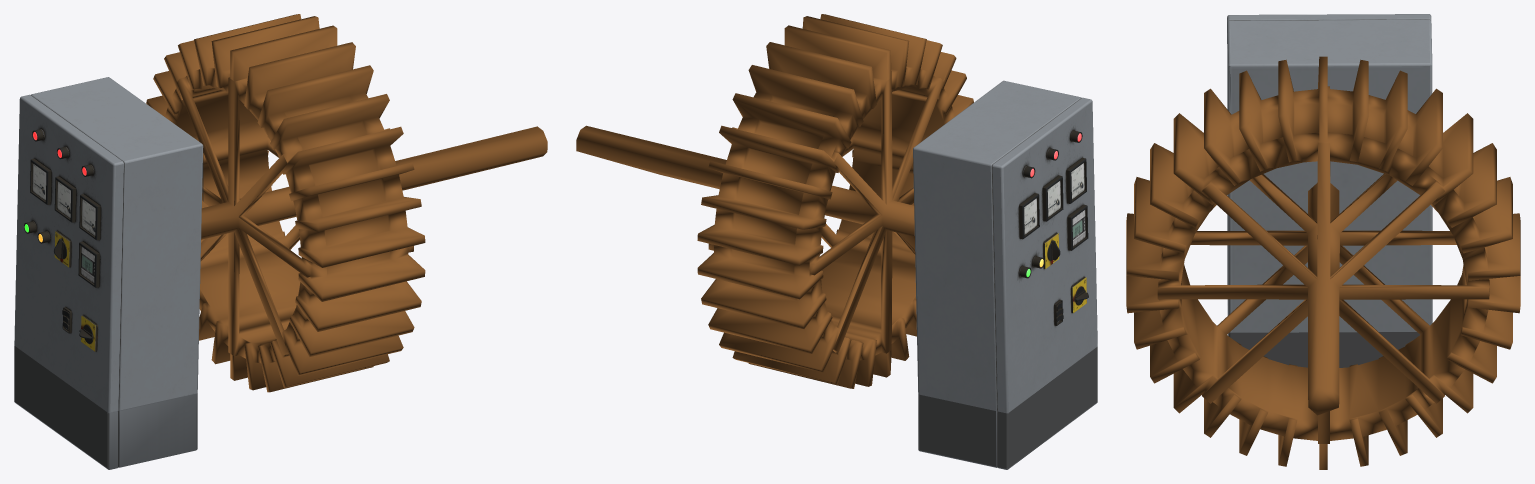
File: wheel_gen_right.glb
3 views of the same model, side by side, from view 1: azimuth 30°, elevation 25°; view 2: azimuth 150°, elevation 25°; view 3: azimuth 270°, elevation 25° (orthographic). The views are drawn at different scales.
Parts seen in each view (by area): view 1: Water wheel_2, Null_1__0; view 2: Water wheel_2, Null_1__0; view 3: Water wheel_2, Null_1__0.
Boxes of the visible parts, left/top/right/bottom form: Water wheel_2: left=146, top=14, right=547, bottom=392; Null_1__0: left=14, top=77, right=203, bottom=469; Water wheel_2: left=576, top=14, right=973, bottom=388; Null_1__0: left=913, top=80, right=1097, bottom=469; Water wheel_2: left=1126, top=56, right=1520, bottom=469; Null_1__0: left=1227, top=14, right=1432, bottom=367.
Size of the model in its own units: 6 by 4.12 by 3.86.
Materials: 2 (2 with a texture image).
